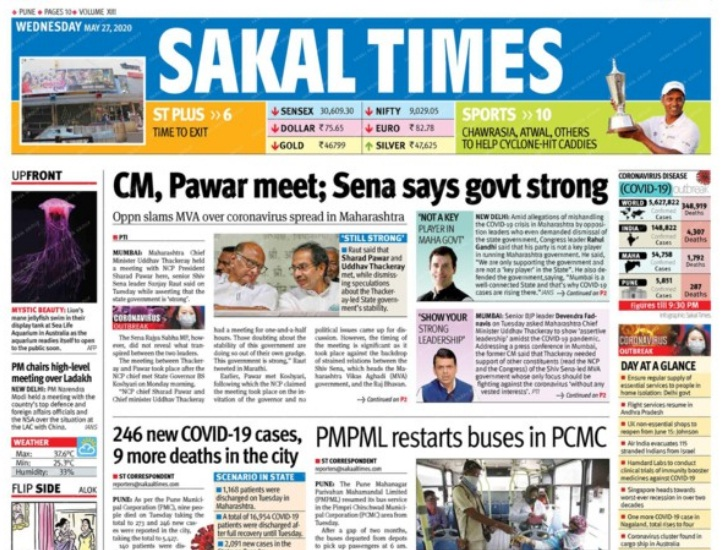news_paper: (2, 8, 724, 542)
